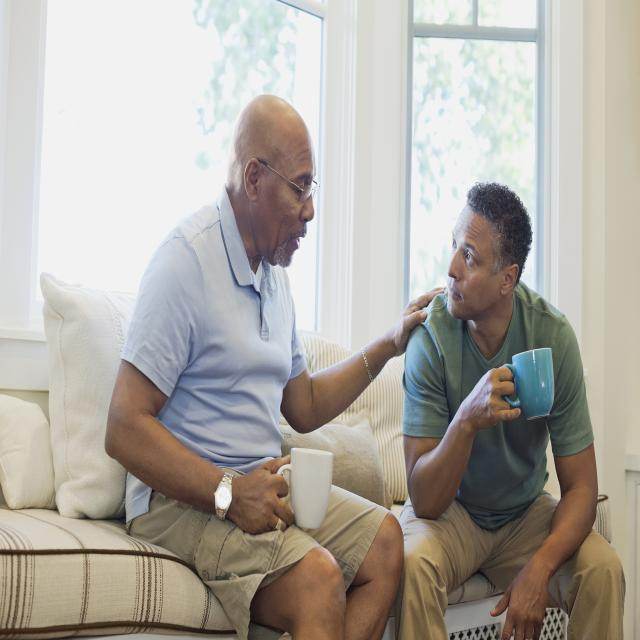adult: (103, 95, 445, 640), (393, 180, 627, 640)
